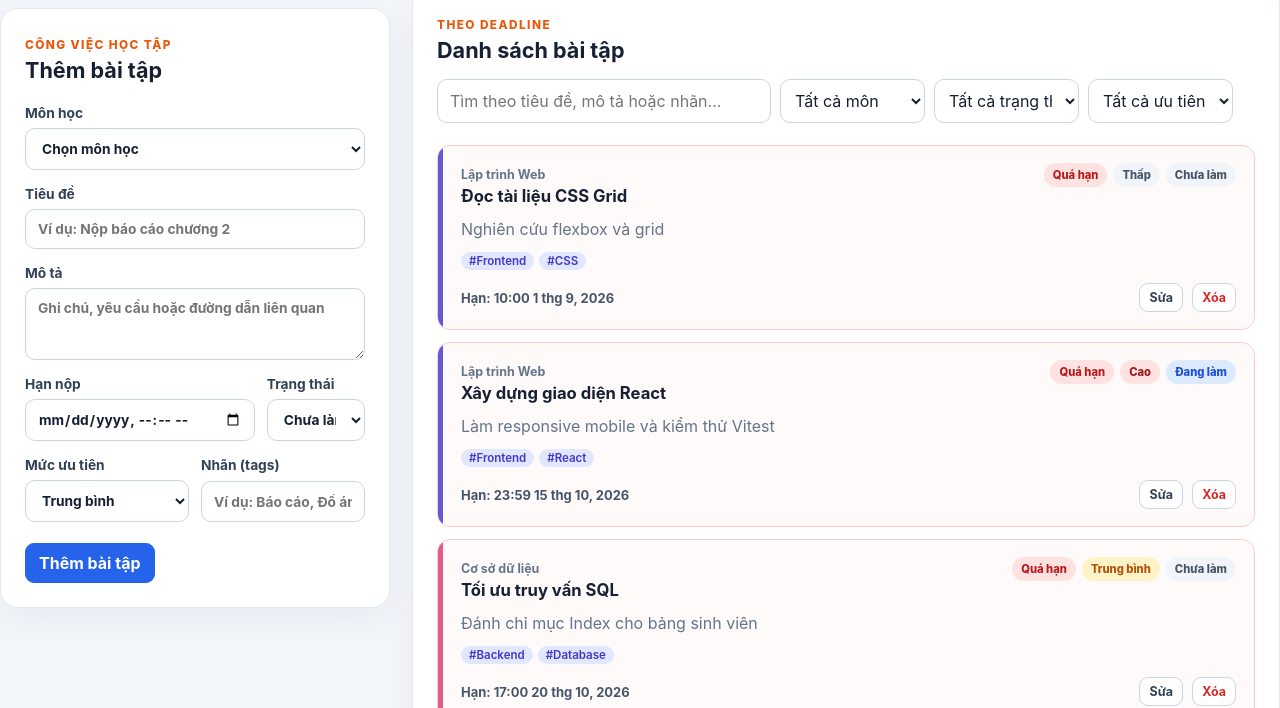
Test: Advanced Assignments Workflow: Priority, Tags & Smart Filters › combines multiple filters (Course + Status + Priority) and resets them
The width and height of the screenshot is (1280, 708).
Note: Filter by Course: c1 (Lập trình Web)
Select "Lập trình Web" in the dropdown named "Lọc theo môn": (852, 101) [780,79,925,123]
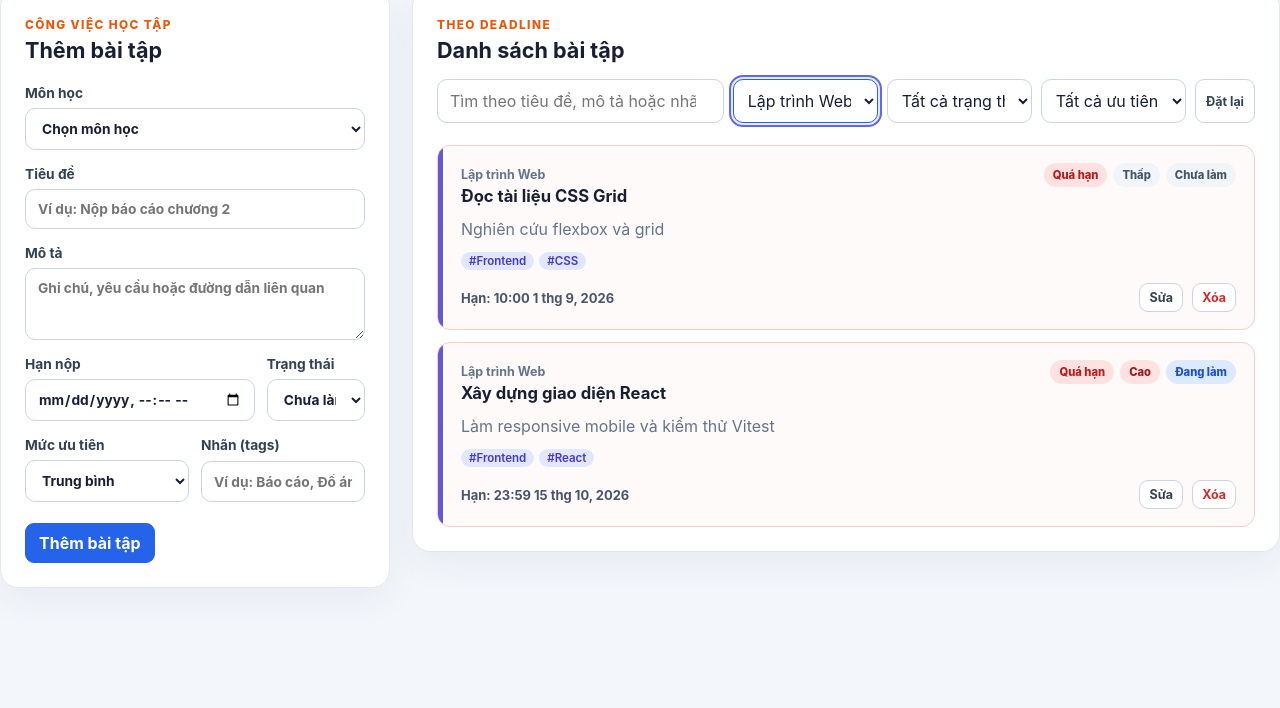
Expected: the heading "Xây dựng giao diện React" is shown, [461,383,666,403]
Expected: the heading "Tối ưu truy vấn SQL" is gone
Note: Filter by Priority: high
Select "Ưu tiên Cao" in the dropdown named "Lọc theo mức ưu tiên": (1113, 101) [1041,79,1186,123]
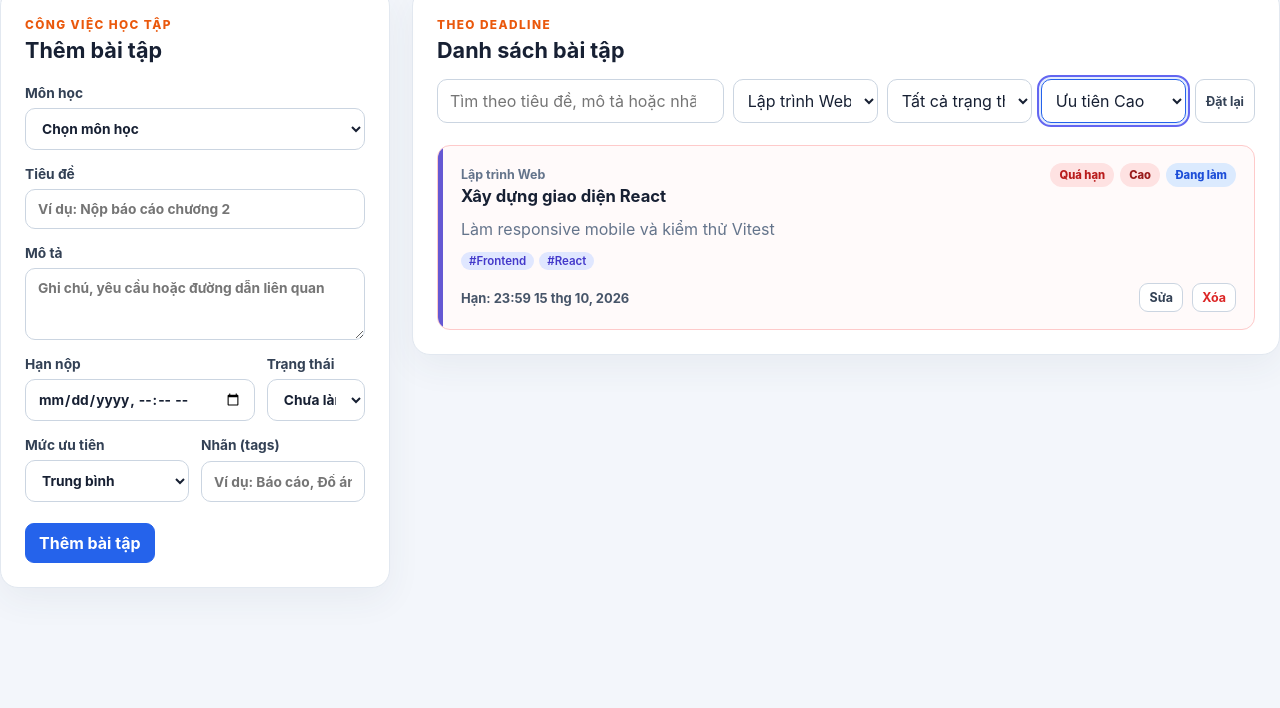
Expected: the heading "Xây dựng giao diện React" is shown, [461,186,666,206]
Expected: the heading "Đọc tài liệu CSS Grid" is gone
Note: Filter by Status: in-progress
Select "Đang làm" in the dropdown named "Lọc theo trạng thái": (959, 101) [887,79,1032,123]
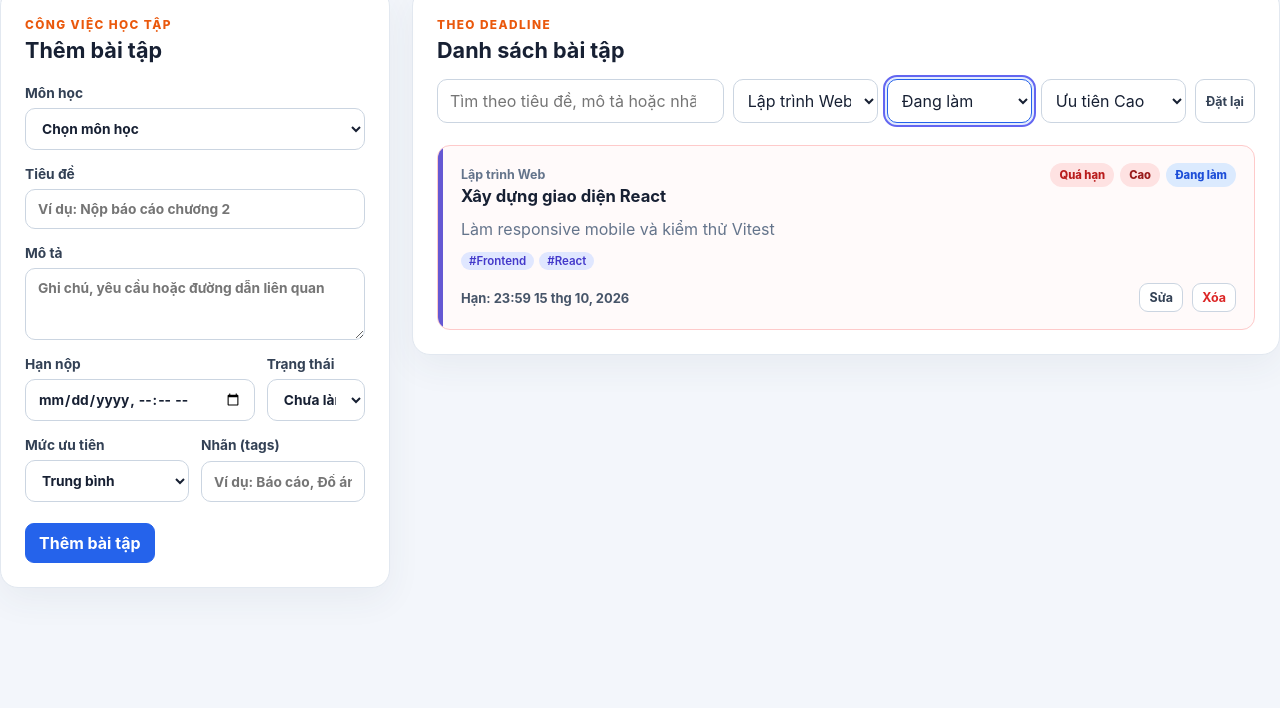
Expected: the heading "Xây dựng giao diện React" is shown, [461,186,666,206]
Expected: the button "Đặt lại" is shown
Click the button "Đặt lại": click(1225, 101) [1195,79,1255,123]
(page scrolled)
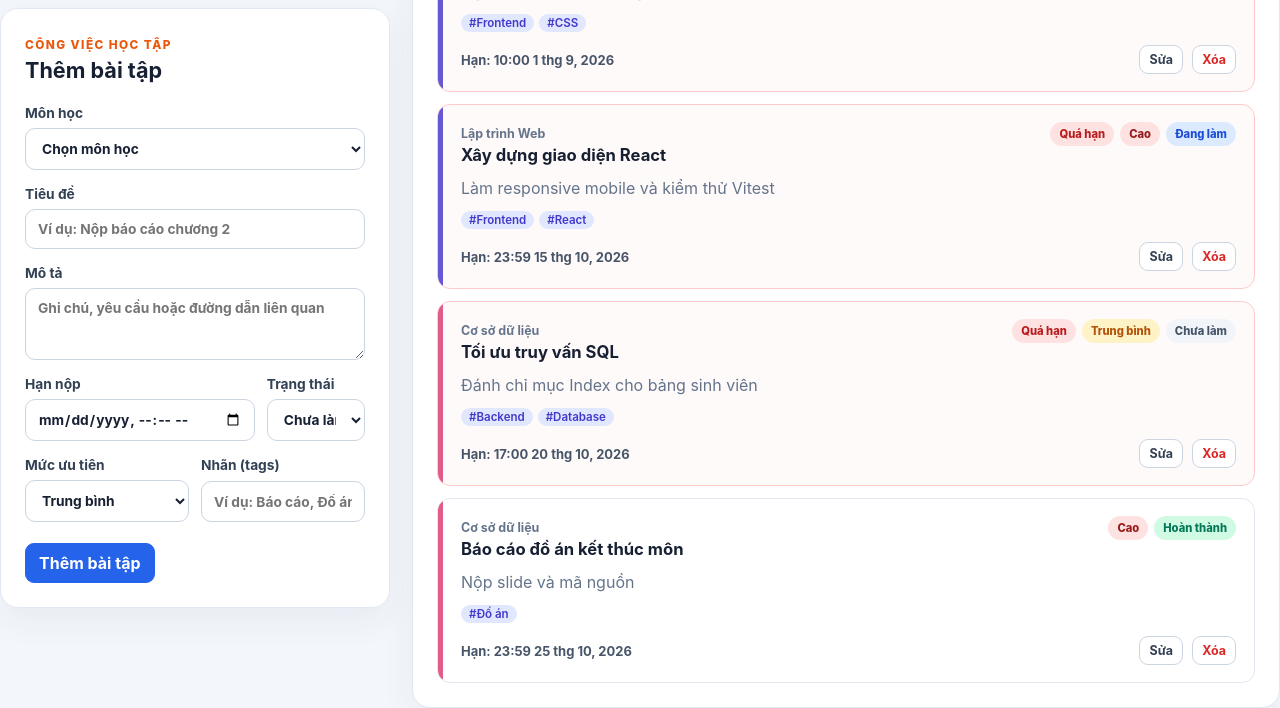
Expected: the heading "Xây dựng giao diện React" is shown, [461,145,666,165]
Expected: the heading "Tối ưu truy vấn SQL" is shown, [461,342,619,362]
Expected: the heading "Báo cáo đồ án kết thúc môn" is shown, [461,539,684,559]
